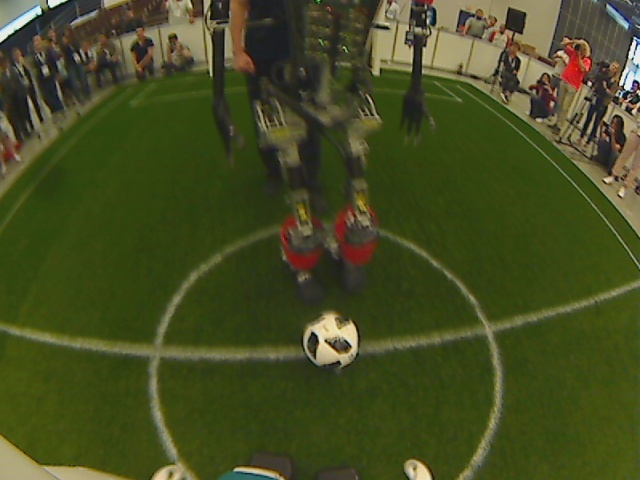ball: (301, 310, 361, 372)
